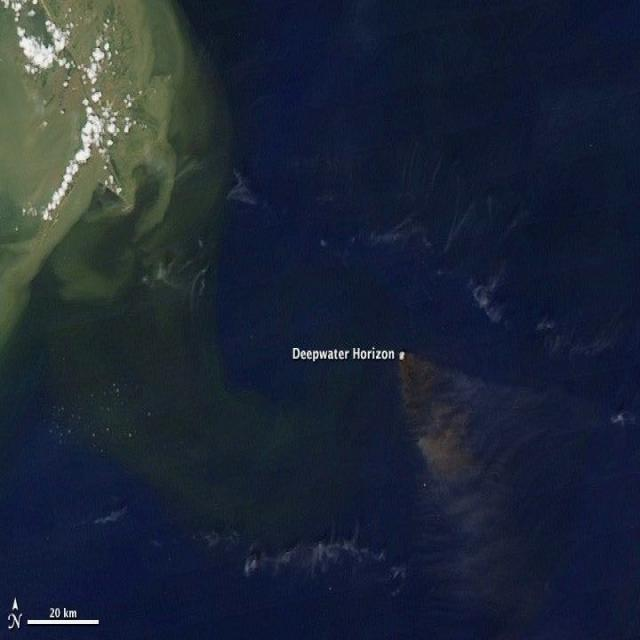oil spill: (399, 339, 605, 607)
